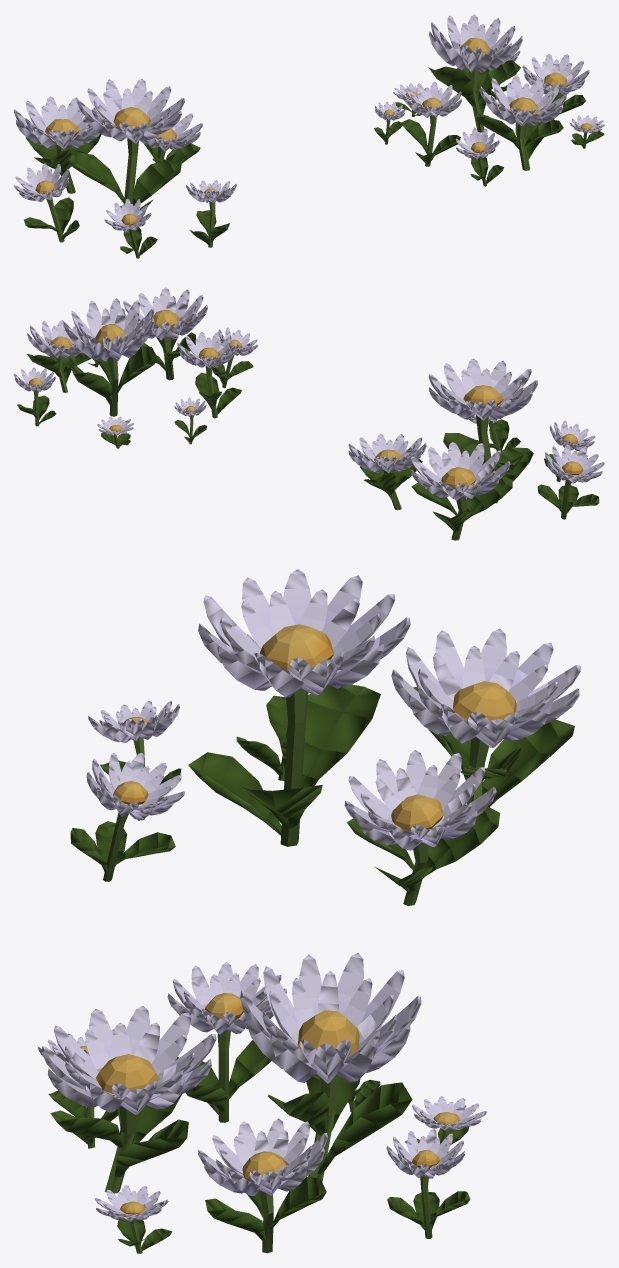
Rendered from white_flowers.glb.
3 renders of one model, top to bottom at view 1: azimuth 30°, elevation 25°; view 2: azimuth 150°, elevation 25°; view 3: azimuth 270°, elevation 25°, orthographic. The views are drawn at different scales.
Visible parts, largest first — view 1: mesh_flower_white.008, mesh_flower_white.002; view 2: mesh_flower_white.008, mesh_flower_white.002; view 3: mesh_flower_white.008, mesh_flower_white.002.
Boxes of the visible parts, x1,y1,x2,y2 form: mesh_flower_white.008: [14, 79, 236, 258]; mesh_flower_white.002: [374, 14, 604, 186]; mesh_flower_white.008: [348, 358, 604, 540]; mesh_flower_white.002: [14, 287, 257, 448]; mesh_flower_white.008: [70, 569, 580, 905]; mesh_flower_white.002: [38, 953, 487, 1253].
Size of the model in its own units: 1.6 by 0.33 by 0.6729.
